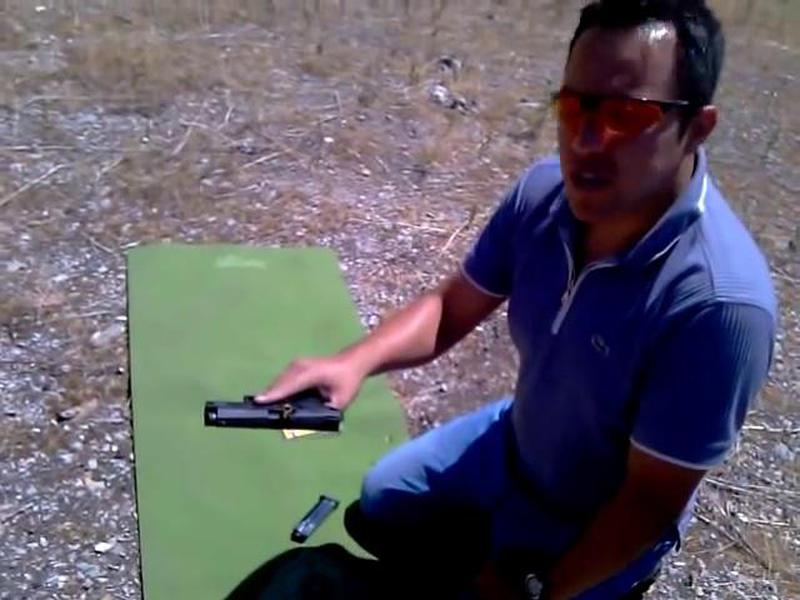Pistola: (167, 364, 347, 457)
